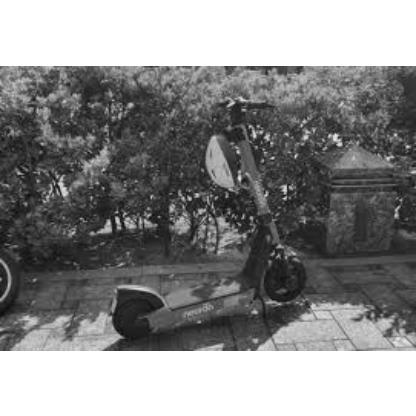bike: (109, 98, 309, 341), (109, 213, 310, 341)
